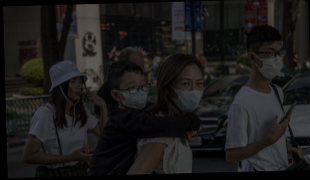with_mask: (166, 76, 203, 112), (116, 77, 149, 109), (253, 46, 284, 79)
without_mask: (66, 76, 83, 101)
